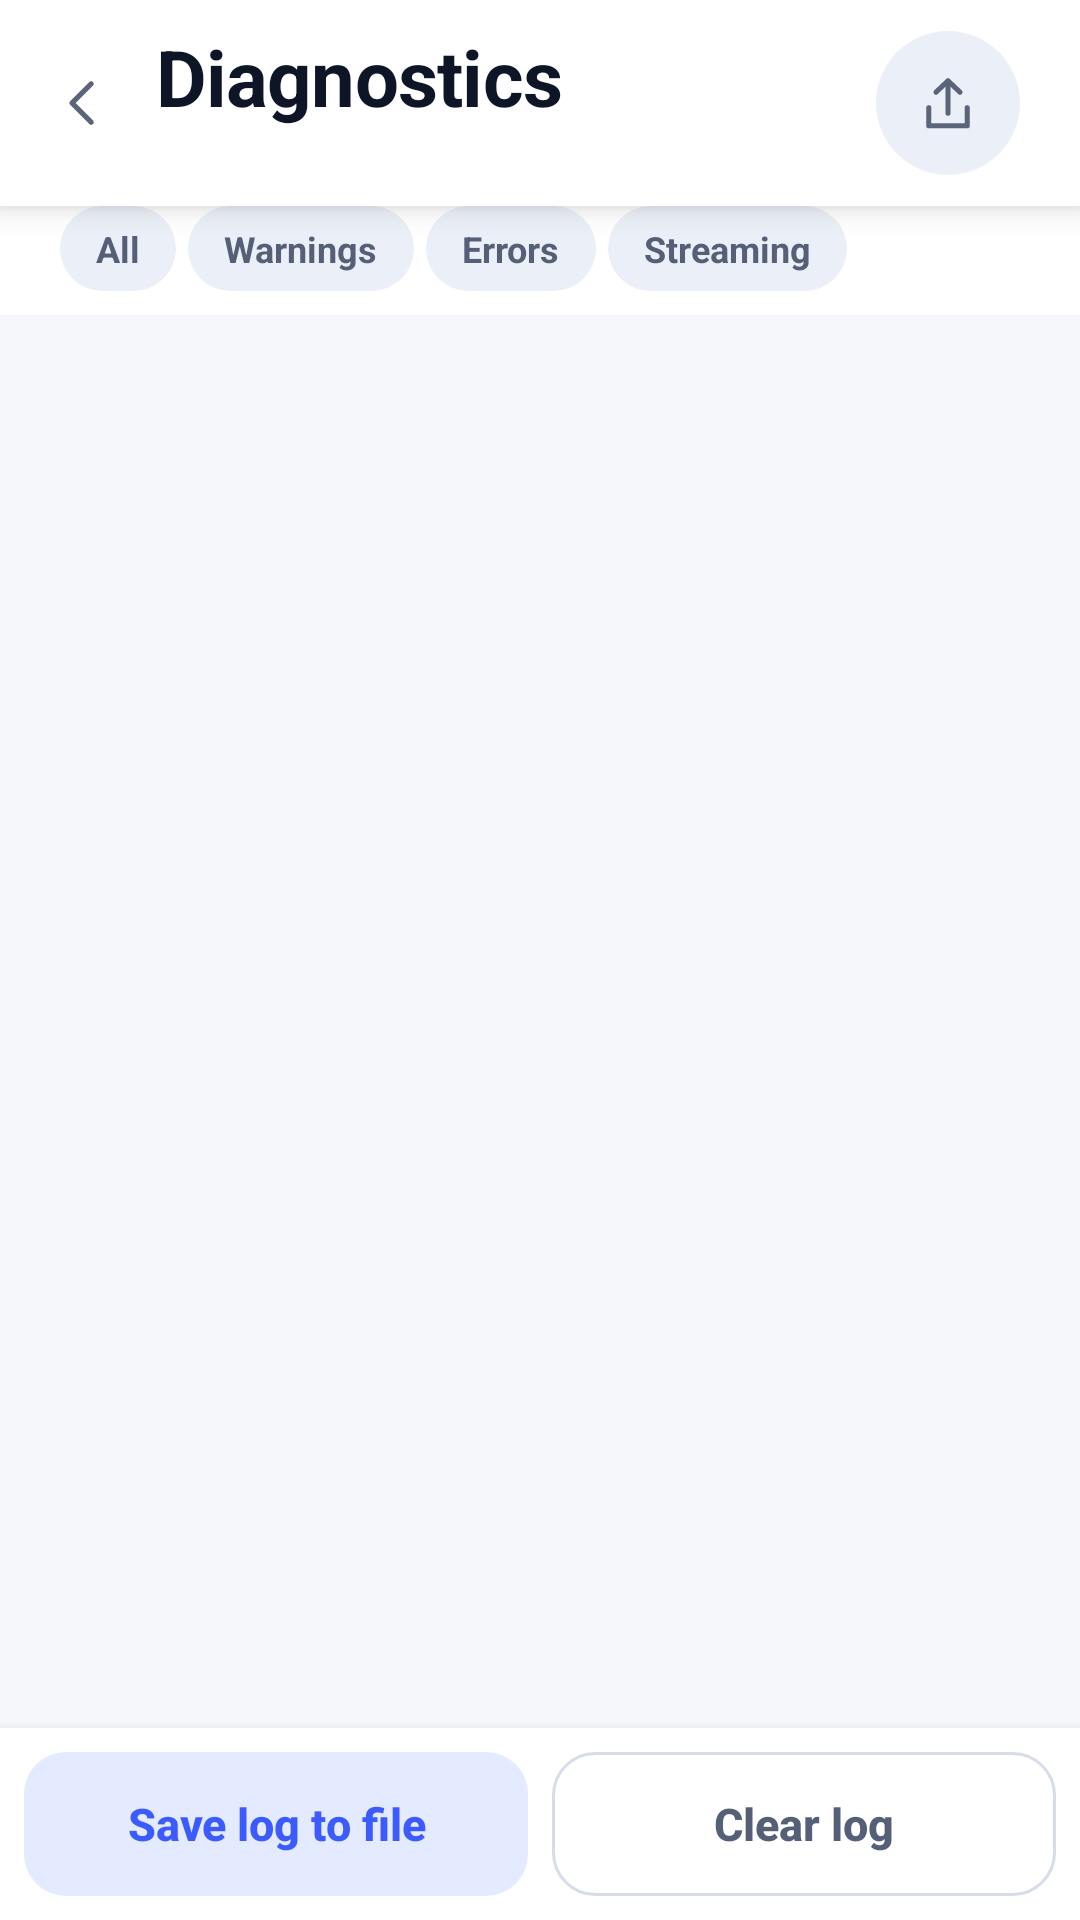

Screen size 1080w x 1920h. Icon name, then its center in pixels as point (x, y):
Go back: point (81, 103)
Share log: point (948, 103)
